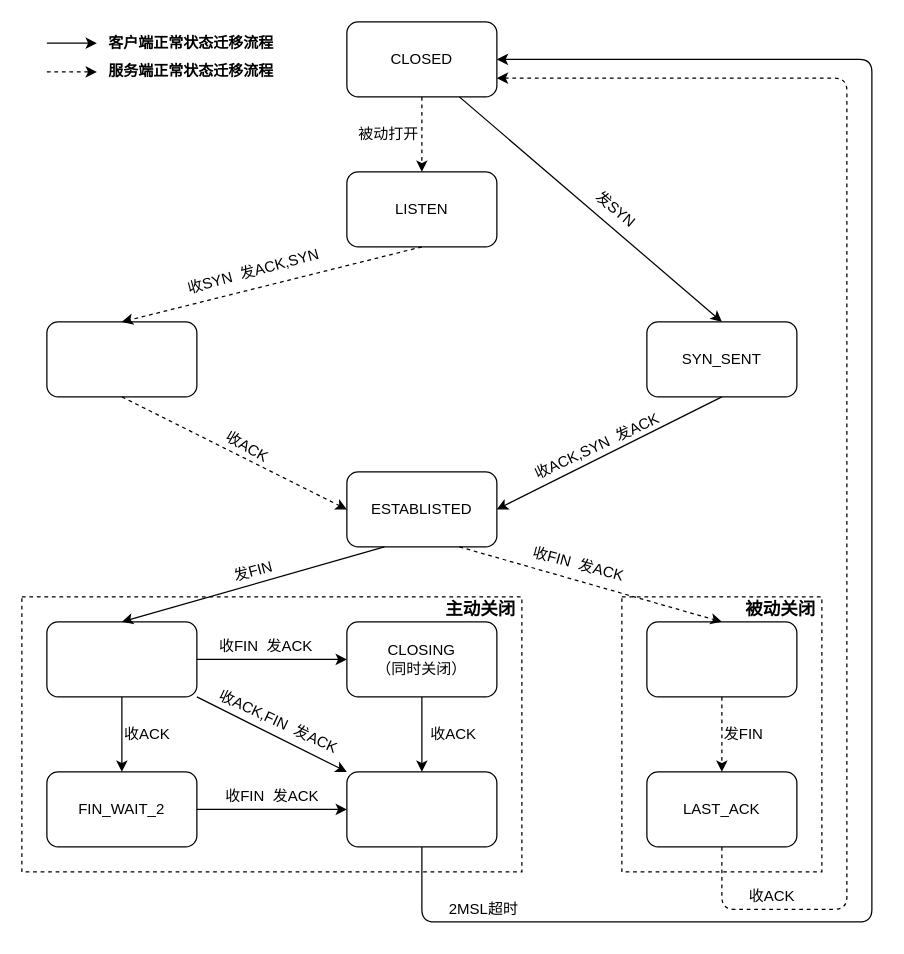
The diagram is 904 pixels wide and 954 high, and some of its shapes have lost their labels. Each missing label, with the centre of its shape:
CLOSE_WAIT: [721,659]
FIN_WAIT_1: [121,659]
SYN_RECV: [121,359]
TIME_WAIT: [421,809]
